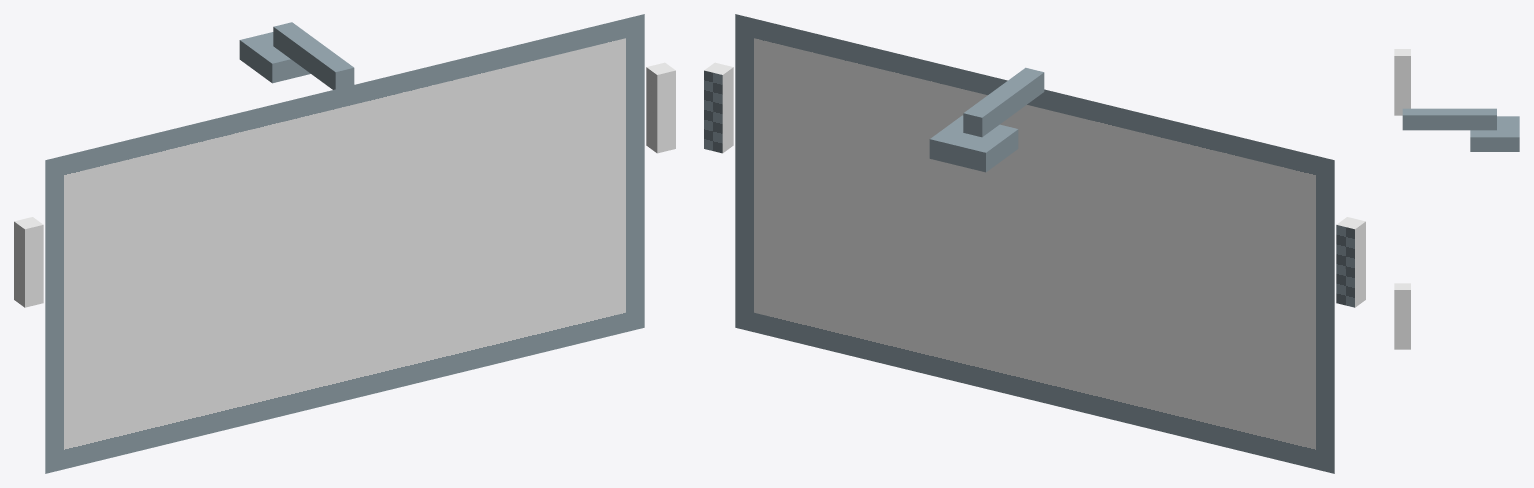
The model's file is ProjectorBoard.glb.
3 views of the same model, side by side, from view 1: azimuth 30°, elevation 25°; view 2: azimuth 150°, elevation 25°; view 3: azimuth 270°, elevation 25° (orthographic). The views are drawn at different scales.
Parts seen in each view (by area): view 1: digibord; view 2: digibord; view 3: digibord.
Boxes of the visible parts, <box> form: digibord: <box>14,14,675,473</box>; digibord: <box>704,14,1365,473</box>; digibord: <box>1394,49,1519,349</box>.
Size of the model in its own units: 4.34 by 2.11 by 0.9531.
Materials: 1 (1 with a texture image).
